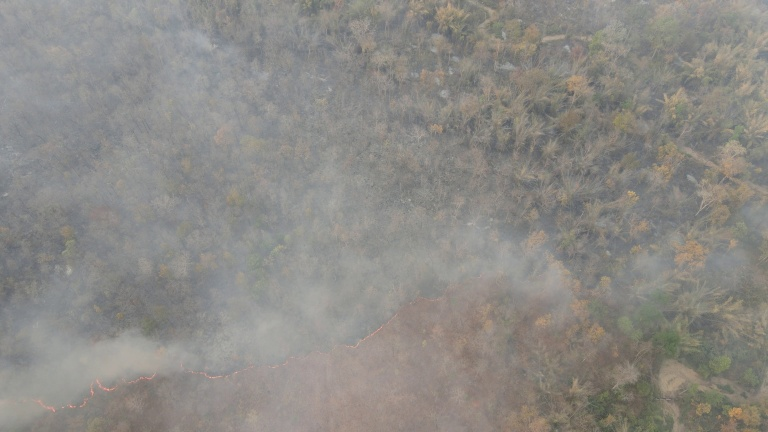fire: (173, 293, 430, 391), (1, 358, 159, 422)
smoke: (1, 1, 578, 432), (581, 196, 768, 321)
